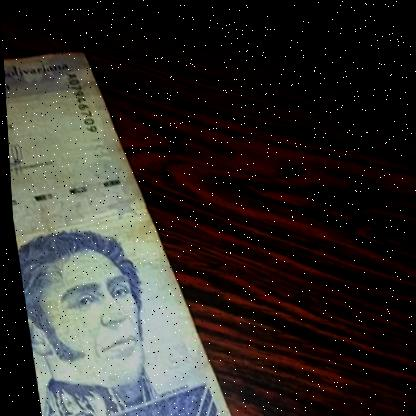ten-front-vef: (2, 35, 235, 416)
